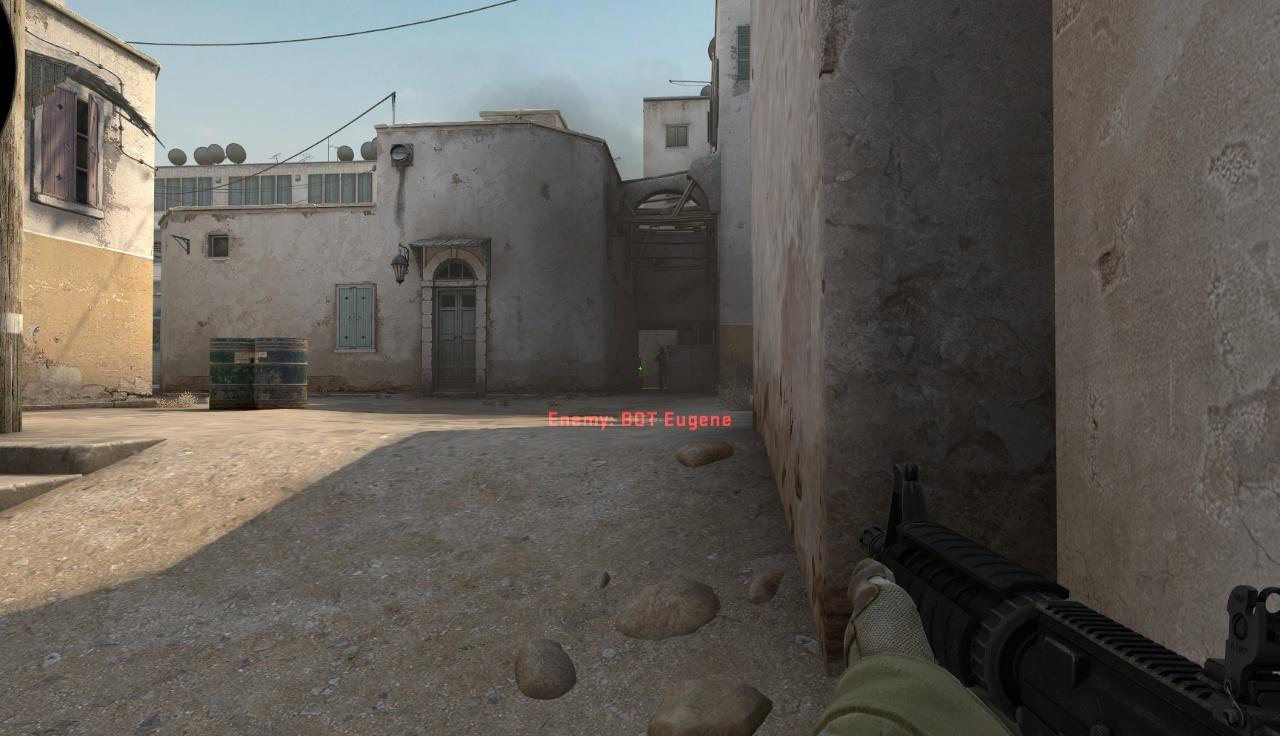rifle: (859, 461, 1280, 736)
tt: (655, 347, 668, 391)
tthead: (658, 347, 665, 355)
